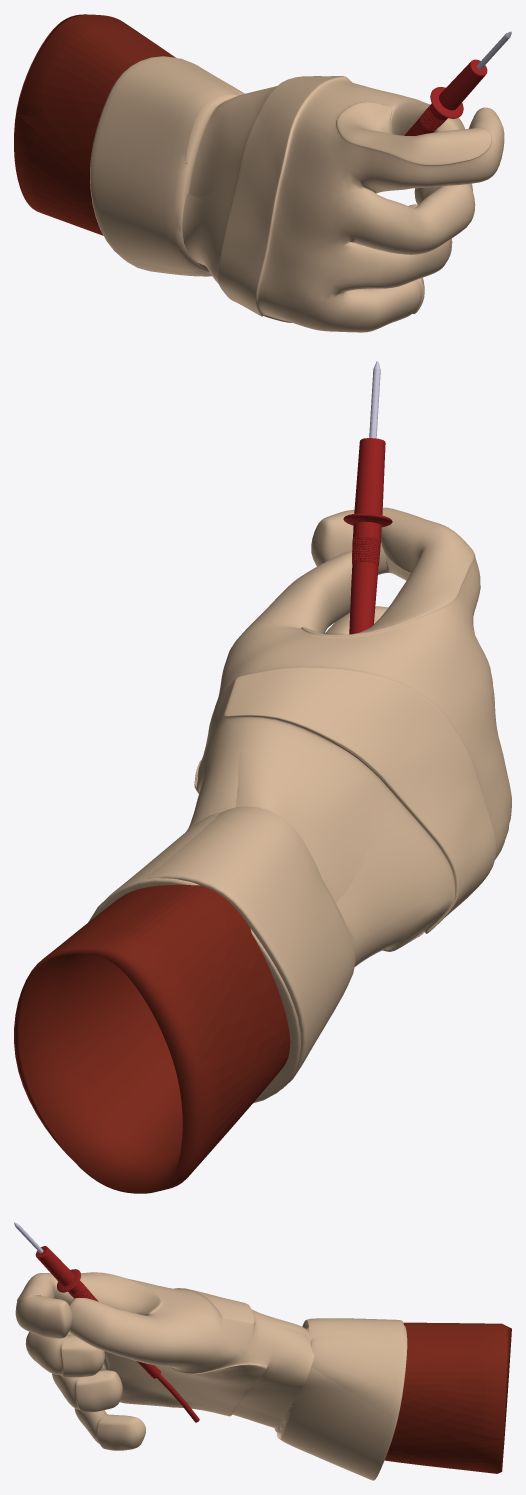
File: gloves-with-multimeter-red.fbx
3 renders of one model, top to bottom at view 1: azimuth 30°, elevation 25°; view 2: azimuth 150°, elevation 25°; view 3: azimuth 270°, elevation 25°, orthographic. The views are drawn at different scales.
Visible parts, largest first — view 1: WorkGloves_RightWorkGloves.001, gloves.001_Cube.000, Tube002; view 2: WorkGloves_RightWorkGloves.001, gloves.001_Cube.000, Tube002; view 3: WorkGloves_RightWorkGloves.001, gloves.001_Cube.000, Tube002.
Part boxes in pixels (x1=…): WorkGloves_RightWorkGloves.001: x1=90, y1=56, x2=504, y2=332; gloves.001_Cube.000: x1=14, y1=14, x2=186, y2=235; Tube002: x1=404, y1=31, x2=511, y2=135; WorkGloves_RightWorkGloves.001: x1=88, y1=507, x2=511, y2=1103; gloves.001_Cube.000: x1=14, y1=884, x2=290, y2=1193; Tube002: x1=343, y1=361, x2=392, y2=634; WorkGloves_RightWorkGloves.001: x1=15, y1=1272, x2=407, y2=1480; gloves.001_Cube.000: x1=384, y1=1322, x2=511, y2=1473; Tube002: x1=14, y1=1222, x2=199, y2=1422.
Bounding box in the file's own units: 397 × 724 × 1122.
